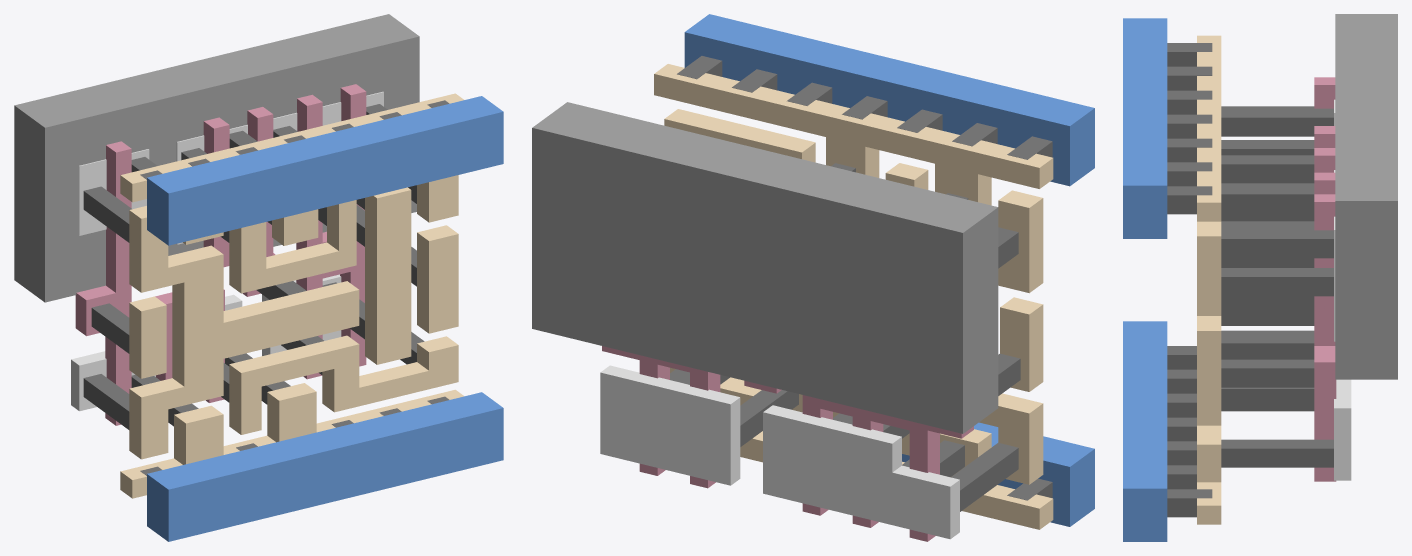
Rendered from sky130_fd_sc_hd__einvp_2.gds.gltf.
3 renders of one model, left to right at view 1: azimuth 30°, elevation 25°; view 2: azimuth 150°, elevation 25°; view 3: azimuth 270°, elevation 25°, orthographic. The views are drawn at different scales.
Parts seen in each view (by area): view 1: sky130_fd_sc_hd__einvp_2_li1, sky130_fd_sc_hd__einvp_2_met1, sky130_fd_sc_hd__einvp_2_nwell, sky130_fd_sc_hd__einvp_2_poly, sky130_fd_sc_hd__einvp_2_licon, sky130_fd_sc_hd__einvp_2_diff, sky130_fd_sc_hd__einvp_2_mcon; view 2: sky130_fd_sc_hd__einvp_2_nwell, sky130_fd_sc_hd__einvp_2_li1, sky130_fd_sc_hd__einvp_2_diff, sky130_fd_sc_hd__einvp_2_met1, sky130_fd_sc_hd__einvp_2_licon, sky130_fd_sc_hd__einvp_2_poly, sky130_fd_sc_hd__einvp_2_mcon; view 3: sky130_fd_sc_hd__einvp_2_licon, sky130_fd_sc_hd__einvp_2_nwell, sky130_fd_sc_hd__einvp_2_met1, sky130_fd_sc_hd__einvp_2_mcon, sky130_fd_sc_hd__einvp_2_li1, sky130_fd_sc_hd__einvp_2_poly, sky130_fd_sc_hd__einvp_2_diff.
Part boxes in pixels (bbox=[...]): sky130_fd_sc_hd__einvp_2_li1: bbox=[120, 93, 463, 498]; sky130_fd_sc_hd__einvp_2_met1: bbox=[147, 96, 503, 541]; sky130_fd_sc_hd__einvp_2_nwell: bbox=[14, 14, 419, 302]; sky130_fd_sc_hd__einvp_2_poly: bbox=[75, 84, 366, 425]; sky130_fd_sc_hd__einvp_2_licon: bbox=[83, 104, 424, 429]; sky130_fd_sc_hd__einvp_2_diff: bbox=[71, 91, 383, 411]; sky130_fd_sc_hd__einvp_2_mcon: bbox=[140, 100, 449, 475]; sky130_fd_sc_hd__einvp_2_nwell: bbox=[532, 102, 998, 433]; sky130_fd_sc_hd__einvp_2_li1: bbox=[654, 64, 1053, 529]; sky130_fd_sc_hd__einvp_2_diff: bbox=[600, 365, 959, 539]; sky130_fd_sc_hd__einvp_2_met1: bbox=[684, 14, 1094, 526]; sky130_fd_sc_hd__einvp_2_licon: bbox=[670, 163, 1020, 511]; sky130_fd_sc_hd__einvp_2_poly: bbox=[602, 346, 973, 541]; sky130_fd_sc_hd__einvp_2_mcon: bbox=[677, 56, 1052, 500]; sky130_fd_sc_hd__einvp_2_licon: bbox=[1221, 106, 1333, 467]; sky130_fd_sc_hd__einvp_2_nwell: bbox=[1335, 14, 1397, 379]; sky130_fd_sc_hd__einvp_2_met1: bbox=[1123, 18, 1167, 541]; sky130_fd_sc_hd__einvp_2_mcon: bbox=[1167, 43, 1212, 517]; sky130_fd_sc_hd__einvp_2_li1: bbox=[1197, 35, 1221, 524]; sky130_fd_sc_hd__einvp_2_poly: bbox=[1314, 77, 1336, 481]; sky130_fd_sc_hd__einvp_2_diff: bbox=[1334, 99, 1351, 480].
Size of the model in its own units: 3.6 by 3.2 by 2.24.
